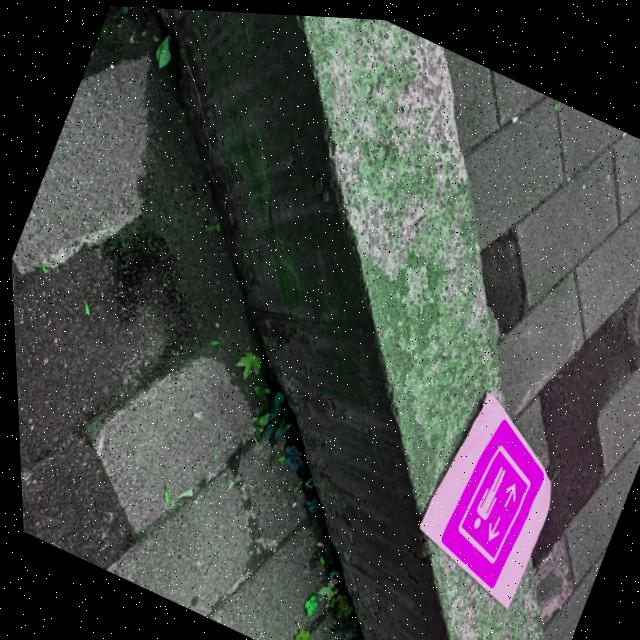elevator: (438, 418, 543, 588)
